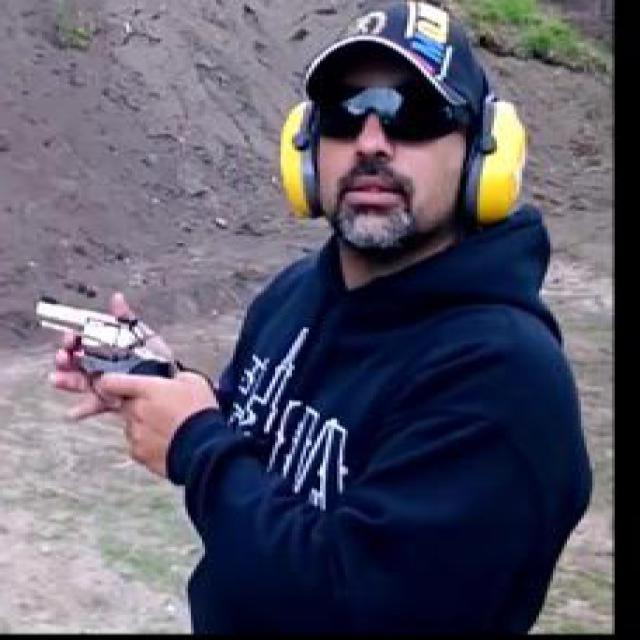weapon: (30, 294, 177, 413)
